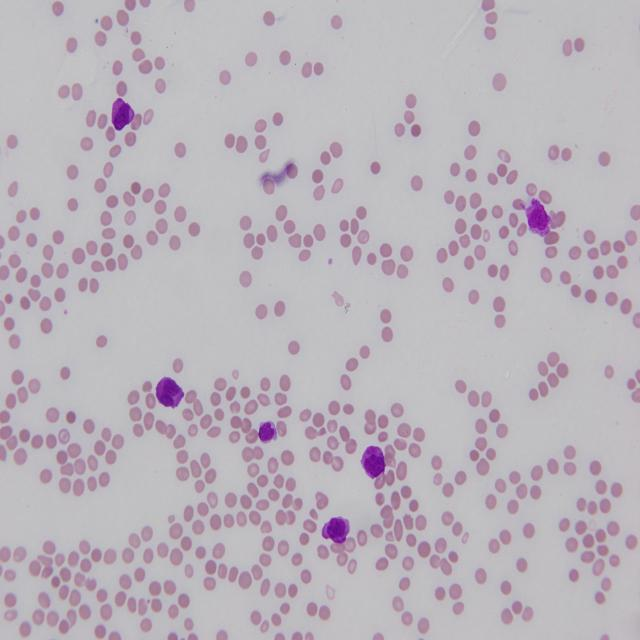cell: (526, 198, 550, 236), (156, 376, 184, 408), (111, 97, 135, 131), (321, 516, 350, 543), (361, 446, 385, 478), (259, 421, 276, 443)
